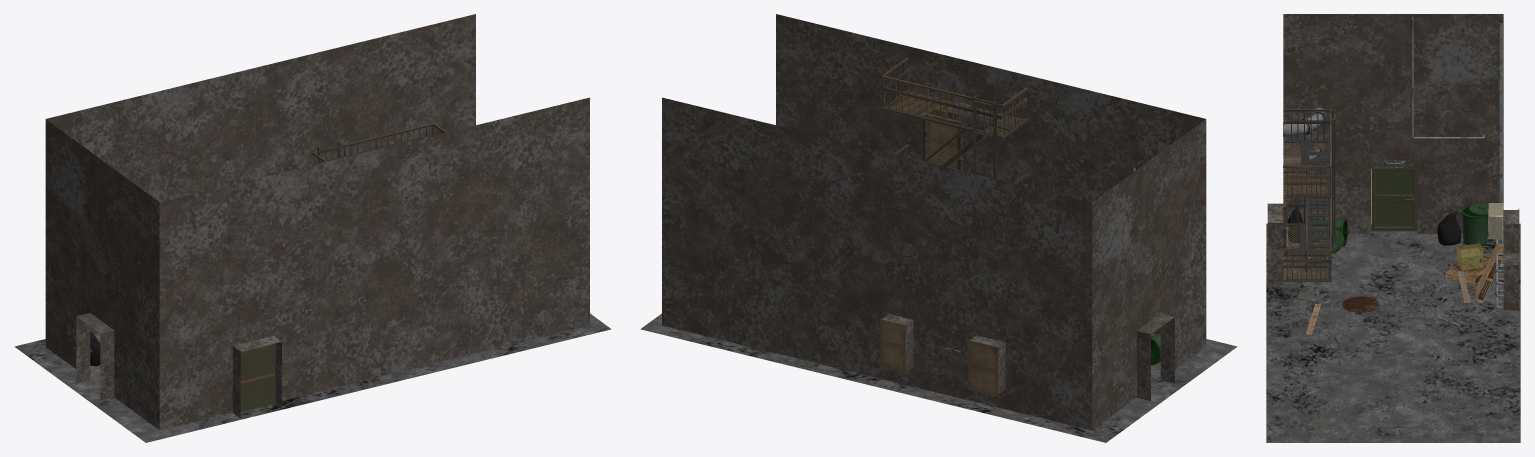
The model's file is alley.glb.
3 views of the same model, side by side, from view 1: azimuth 30°, elevation 25°; view 2: azimuth 150°, elevation 25°; view 3: azimuth 270°, elevation 25° (orthographic). The views are drawn at different scales.
Visible parts, largest first — view 1: rest 1 1, rest 0 1, rest -2 1, rest 1 -2, rest -3 0, rest -3 -1, rest -1 -2, rest -3 1, rest 0 -2, rest -2 -2, floor 0 0, floor -1 -1 (+1 smaller); view 2: rest 1 -2, rest 0 -2, rest 1 1, rest -1 -2, rest -2 -2, rest -3 -1, rest -3 0, rest 0 1, rest -3 -2, floor -1 -1, rest -2 1, rest 0 0 (+3 smaller); view 3: floor 0 0, rest -3 -1, rest -3 0, floor -1 -1, ceiling 0 0, rest -1 -2, rest -1 0, rest -2 1, rest 1 0, ceiling 0 1, rest -3 -2, ceiling -1 0 (+15 smaller).
Boxes of the visible parts, <box> form: rest 1 1: <box>274,97,589,400</box>; rest 0 1: <box>274,174,589,399</box>; rest -2 1: <box>160,174,281,430</box>; rest 1 -2: <box>249,14,475,141</box>; rest -3 0: <box>90,169,159,429</box>; rest -3 -1: <box>45,119,114,382</box>; rest -1 -2: <box>161,69,248,201</box>; rest -3 1: <box>159,184,232,430</box>; rest 0 -2: <box>249,69,402,180</box>; rest -2 -2: <box>46,91,161,202</box>; floor 0 0: <box>146,313,611,442</box>; floor -1 -1: <box>14,334,168,442</box>; rest 1 -2: <box>662,97,888,380</box>; rest 0 -2: <box>662,153,888,380</box>; rest 1 1: <box>776,14,1091,157</box>; rest -1 -2: <box>880,153,976,402</box>; rest -2 -2: <box>967,174,1091,410</box>; rest -3 -1: <box>1092,152,1160,429</box>; rest -3 0: <box>1137,119,1206,383</box>; rest 0 1: <box>874,91,1091,202</box>; rest -3 -2: <box>1006,203,1092,430</box>; floor -1 -1: <box>641,329,1236,442</box>; rest -2 1: <box>1092,91,1160,334</box>; rest 0 0: <box>881,76,1002,166</box>; floor 0 0: <box>1266,224,1519,442</box>; rest -3 -1: <box>1371,14,1503,245</box>; rest -3 0: <box>1283,14,1416,246</box>; floor -1 -1: <box>1267,223,1520,442</box>; ceiling 0 0: <box>1284,109,1331,280</box>; rest -1 -2: <box>1477,213,1519,310</box>; rest -1 0: <box>1284,110,1379,333</box>; rest -2 1: <box>1267,130,1295,287</box>; rest 1 0: <box>1287,166,1331,281</box>; ceiling 0 1: <box>1283,155,1327,278</box>; rest -3 -2: <box>1487,20,1503,215</box>; ceiling -1 0: <box>1284,109,1335,248</box>.
Bounding box in the file's own units: 16.51 × 7.74 × 8.08.
Materials: 5 (5 with a texture image).
